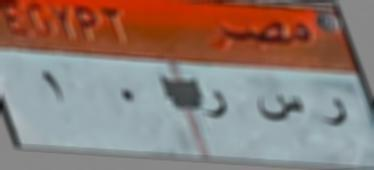0: (116, 82, 140, 110)
1: (43, 67, 68, 110)
raa: (316, 94, 352, 134), (202, 84, 230, 122)
seen: (254, 82, 305, 134)
